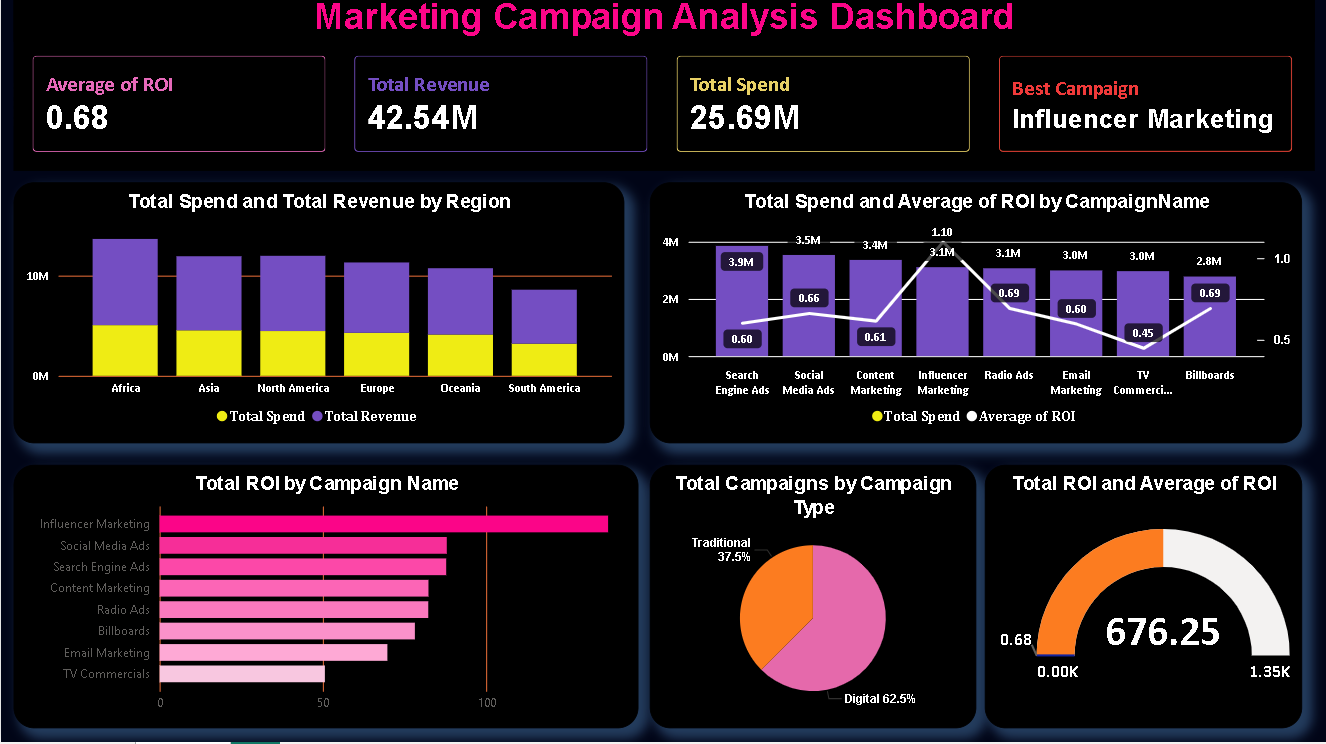

This screenshot's page, from the dashboard's own definition file:
{"tool":"powerbi","page":{"name":"Page 1","canvas":[1280,720],"ordinal":0},"visuals":[{"type":"columnChart","fields":{"Y":["marketing campaign performance.Total Spend","marketing campaign performance.Total Revenue"],"Category":["marketing campaign performance.Region"]},"box":[12.1,179.8,589.9,252.1],"z":0},{"type":"lineClusteredColumnComboChart","fields":{"Category":["marketing campaign performance.CampaignName"],"Y":["marketing campaign performance.Total Spend"],"Y2":["Avg(marketing campaign performance.ROI)"]},"box":[626.1,179.8,629.8,252.1],"z":1000},{"type":"barChart","fields":{"Category":["marketing campaign details.Campaign Name"],"Y":["marketing campaign details.Total ROI"]},"box":[12.1,452.4,603.2,254.6],"z":1001},{"type":"pieChart","title":"Total Campaigns by Campaign Type","fields":{"Category":["marketing campaign details.Campaign Type"],"Y":["CountNonNull(marketing campaign details.Total Campaigns)"]},"box":[626.1,452.4,314.9,254.6],"z":1002},{"type":"gauge","fields":{"TargetValue":["Avg(marketing campaign performance.ROI)"],"Y":["marketing campaign details.Total ROI"]},"box":[949.5,452.4,306.4,254.6],"z":1003},{"type":"cardVisual","title":"Marketing Campaign Analysis Dashboard","fields":{"Data":["Avg(marketing campaign performance.ROI)","marketing campaign performance.Total Revenue","marketing campaign performance.Total Spend","marketing campaign details.Best Campaign"]},"box":[12.1,0,1255.9,168.9],"z":1004}]}

Visuals, with their boxes in screenshot pixels (x1, y1, x2, y2), scaled from the page's 1280x720 canvas onto the 1326x744 screenshot:
columnChart - marketing campaign performance.Total Spend x marketing campaign performance.Total Revenue: box=[13, 186, 624, 446]
lineClusteredColumnComboChart - marketing campaign performance.CampaignName x marketing campaign performance.Total Spend: box=[649, 186, 1301, 446]
barChart - marketing campaign details.Campaign Name x marketing campaign details.Total ROI: box=[13, 467, 637, 731]
"Total Campaigns by Campaign Type" pieChart: box=[649, 467, 975, 731]
gauge - Avg(marketing campaign performance.ROI) x marketing campaign details.Total ROI: box=[984, 467, 1301, 731]
"Marketing Campaign Analysis Dashboard" cardVisual: box=[13, 0, 1314, 175]
